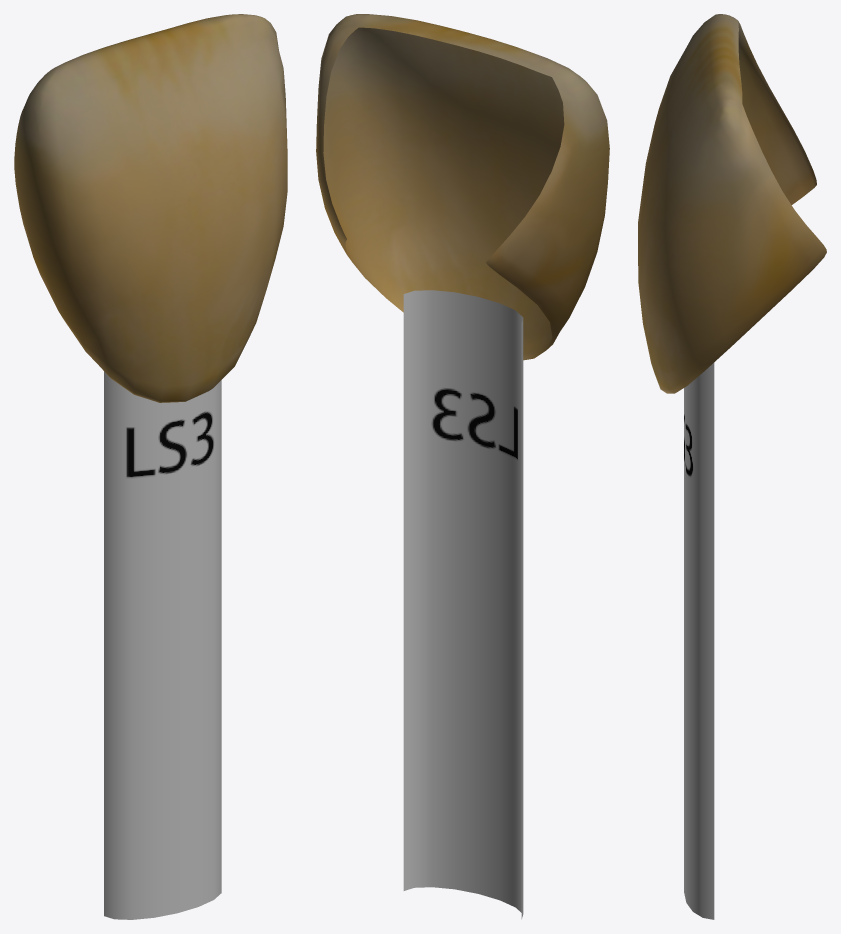
3 views of the same model, side by side, from view 1: azimuth 30°, elevation 25°; view 2: azimuth 150°, elevation 25°; view 3: azimuth 270°, elevation 25° (orthographic). The views are drawn at different scales.
Parts seen in each view (by area): view 1: Tab; view 2: Tab; view 3: Tab.
Boxes of the visible parts, <box> form: Tab: <box>14,14,287,919</box>; Tab: <box>316,14,609,919</box>; Tab: <box>638,14,826,919</box>.
Size of the model in its own units: 0.00866 by 0.0274 by 0.00556.
1 material, 1 textured.
